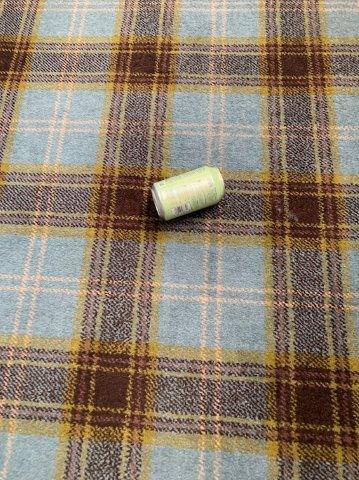kaleng: (153, 166, 224, 220)
